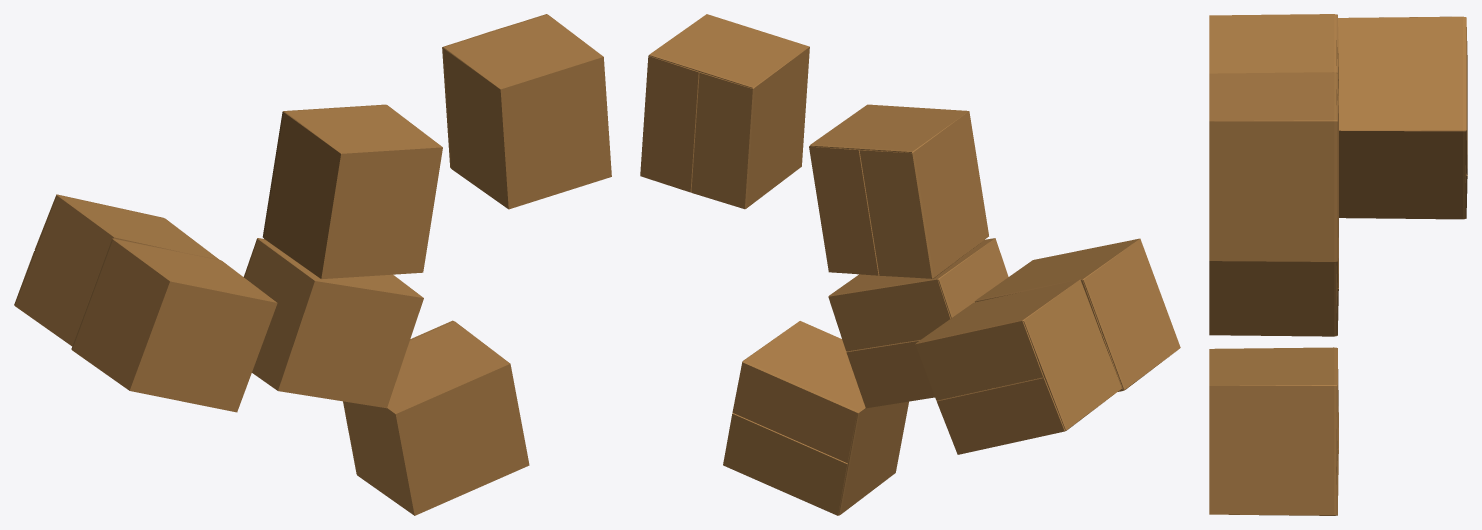
Rendered from Cardboard_Pile.fbx.
3 views of the same model, side by side, from view 1: azimuth 30°, elevation 25°; view 2: azimuth 150°, elevation 25°; view 3: azimuth 270°, elevation 25° (orthographic). The views are drawn at different scales.
Parts seen in each view (by area): view 1: Cardboard_Pile; view 2: Cardboard_Pile; view 3: Cardboard_Pile.
Boxes of the visible parts, left/top/right/bottom form: Cardboard_Pile: left=14, top=14, right=611, bottom=515; Cardboard_Pile: left=640, top=14, right=1180, bottom=515; Cardboard_Pile: left=1209, top=14, right=1467, bottom=515.
Bounding box in the file's own units: 2.52 × 2.07 × 1.05.
